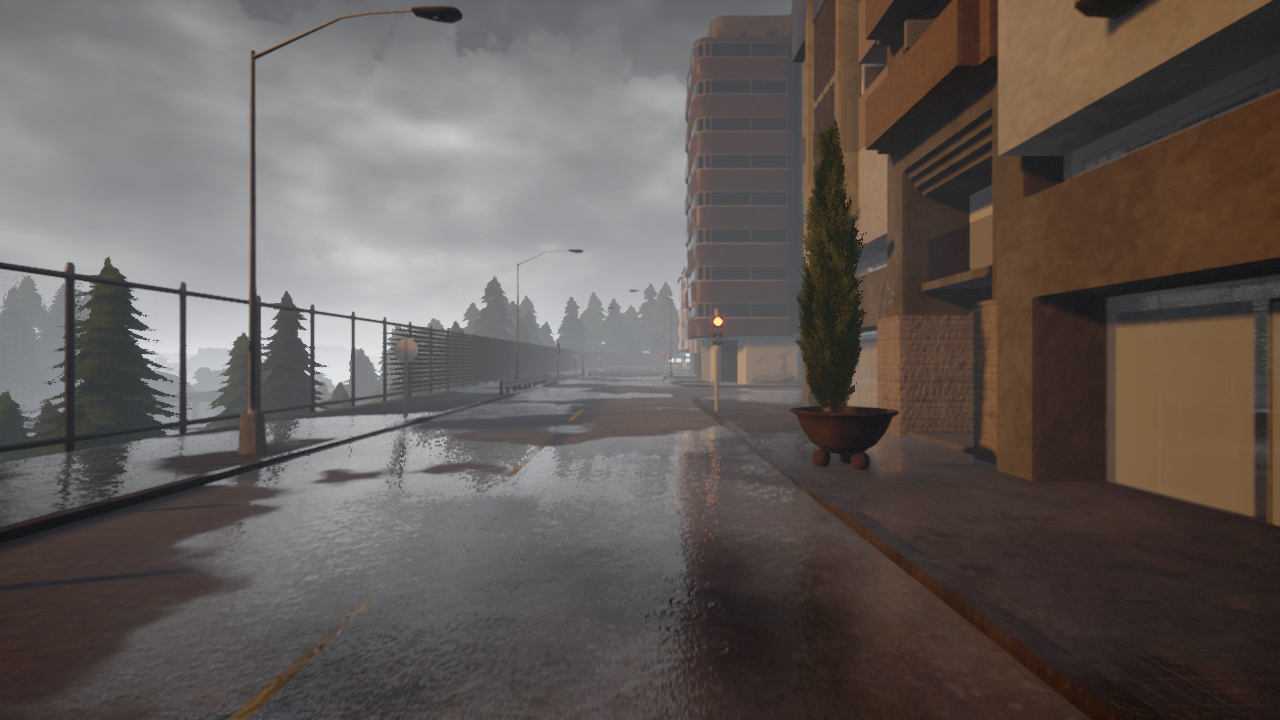red: (711, 314, 723, 346)
